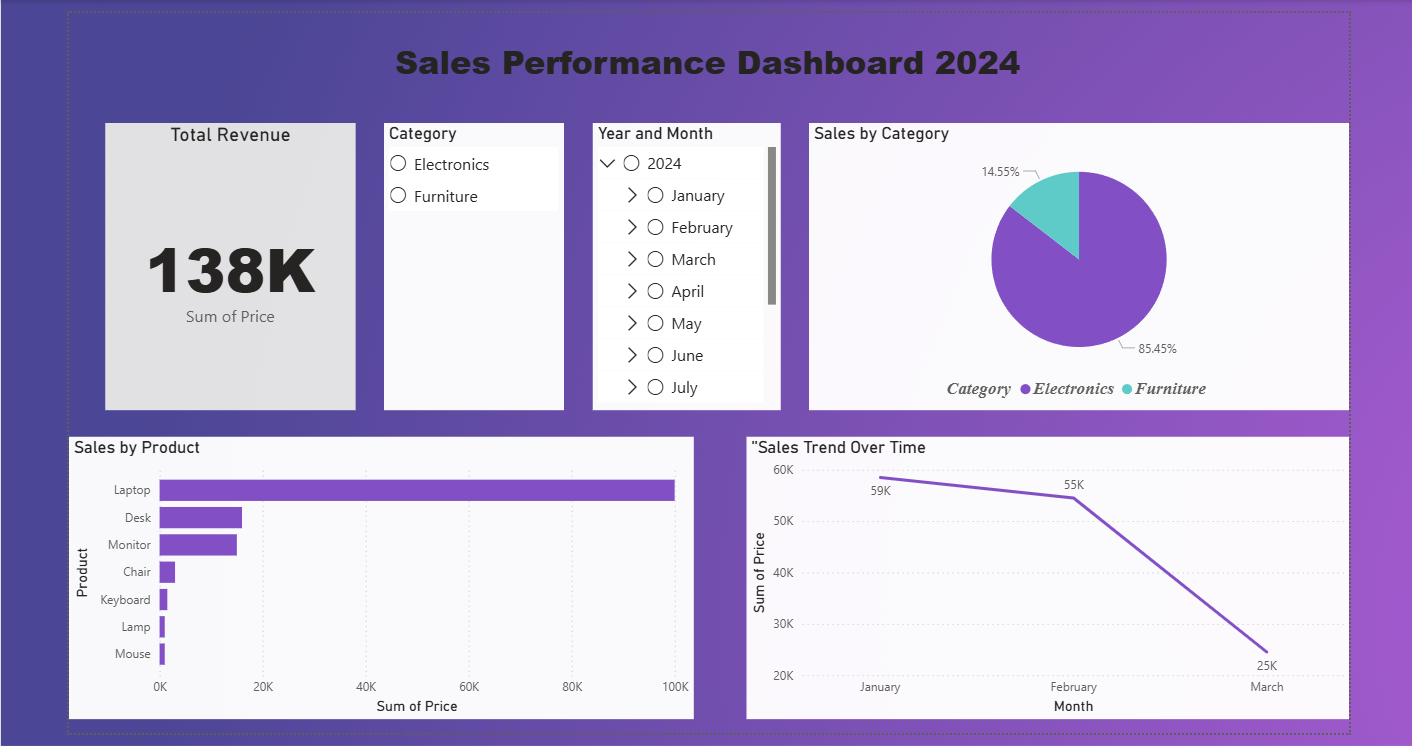

What the dashboard file says about the page in this screenshot:
{"tool":"powerbi","page":{"name":"Page 1","canvas":[1280,720],"ordinal":0},"visuals":[{"type":"card","title":"Total Revenue","fields":{"Values":["Sum(Sheet1.Price)"]},"box":[36.7,110.1,250.7,287.4],"z":0},{"type":"clusteredBarChart","title":"Sales by Product ","fields":{"Category":["Sheet1.Product"],"Y":["Sum(Sheet1.Price)"]},"box":[0,424.3,624.9,282.5],"z":1000},{"type":"pieChart","title":"Sales by Category","fields":{"Category":["Sheet1.Category"],"Y":["Sum(Sheet1.Price)"]},"box":[739.5,110.1,540.5,287.4],"z":2000},{"type":"lineChart","title":"\"Sales Trend Over Time","fields":{"Y":["Sum(Sheet1.Price)"],"Category":["Sheet1.Date.Variation.Date Hierarchy.Month"]},"box":[677.4,424.3,602.9,282.5],"z":3000},{"type":"listSlicer","fields":{"Values":["Sheet1.Category"]},"box":[315.5,110.1,179.8,287.4],"z":4000},{"type":"listSlicer","fields":{"Values":["Sheet1.Date.Variation.Date Hierarchy.Year","Sheet1.Date.Variation.Date Hierarchy.Month","Sheet1.Date.Variation.Date Hierarchy.Day"]},"box":[523.4,110.1,188.3,287.4],"z":5000},{"type":"textbox","box":[265.4,20.8,747.2,64.8],"z":6000}]}

Visuals, with their boxes in screenshot pixels (x1, y1, x2, y2):
"Total Revenue" card: Rect(110, 123, 357, 407)
"Sales by Product " clusteredBarChart: Rect(74, 433, 690, 712)
"Sales by Category" pieChart: Rect(803, 123, 1336, 407)
""Sales Trend Over Time" lineChart: Rect(742, 433, 1336, 712)
listSlicer - Sheet1.Category: Rect(385, 123, 562, 407)
listSlicer - Sheet1.Date.Variation.Date Hierarchy.Year x Sheet1.Date.Variation.Date Hierarchy.Month: Rect(590, 123, 775, 407)
textbox: Rect(335, 35, 1072, 99)
